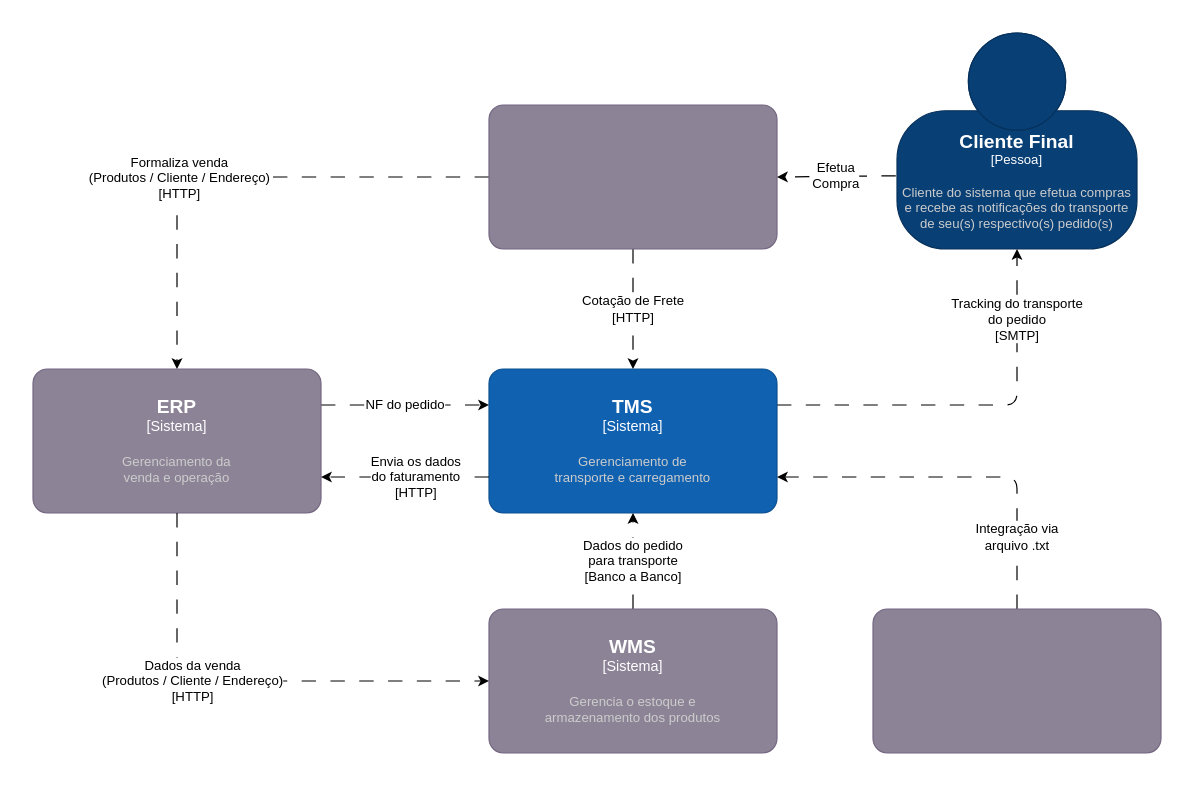
This 1193x785 diagram has some shape labels left out. Here are the shapes that lost their labels. From the top down, the centre of each, then its label:
At point (632, 176): "E-commerce [Sistema] Catálogo de produtos para venda".
At point (1016, 680): "Sistema Transportadora [Sistema] Gerencia os veículos".
